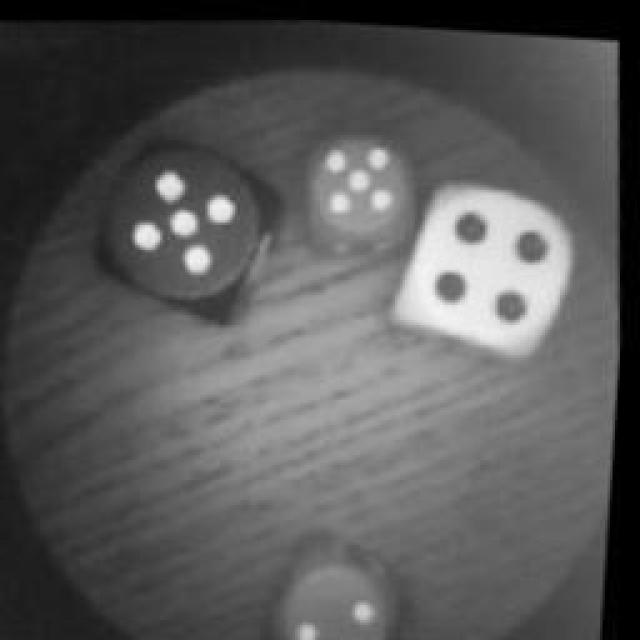dice_2: (280, 522, 412, 640)
dice_4: (402, 163, 586, 365)
dice_5: (92, 121, 288, 324), (296, 121, 426, 256)
